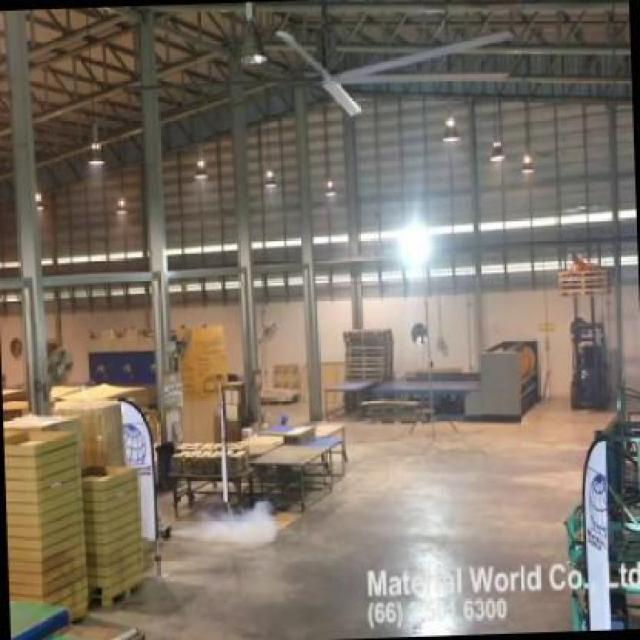fire: (200, 496, 282, 549)
